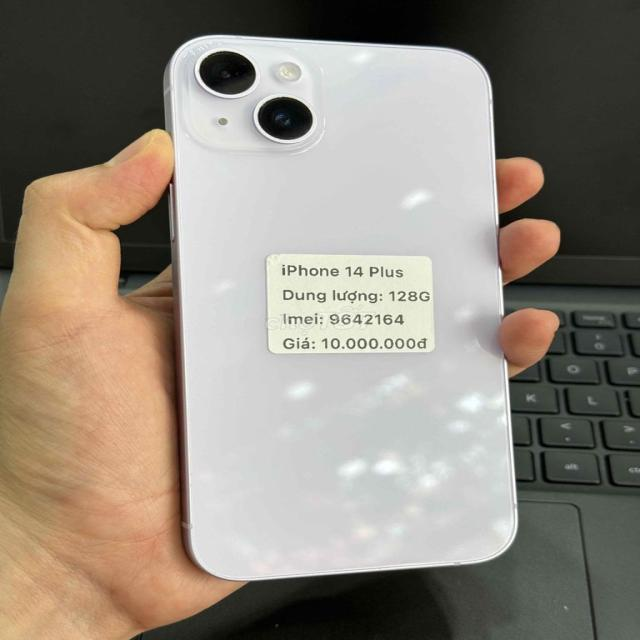gen_14: (164, 28, 522, 576)
